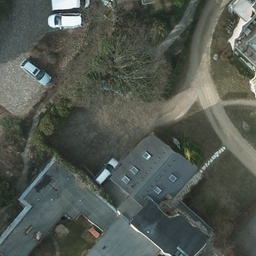car: (93, 156, 119, 187), (21, 58, 51, 82), (45, 12, 84, 29), (56, 1, 90, 20)
